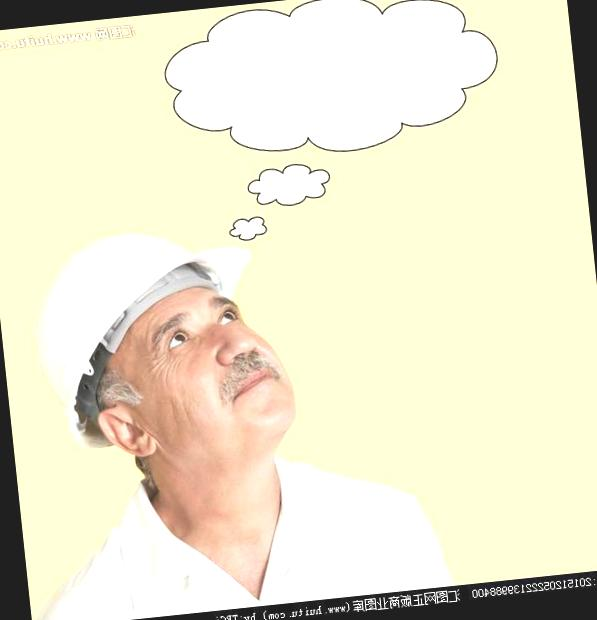helmet: (20, 216, 282, 464)
